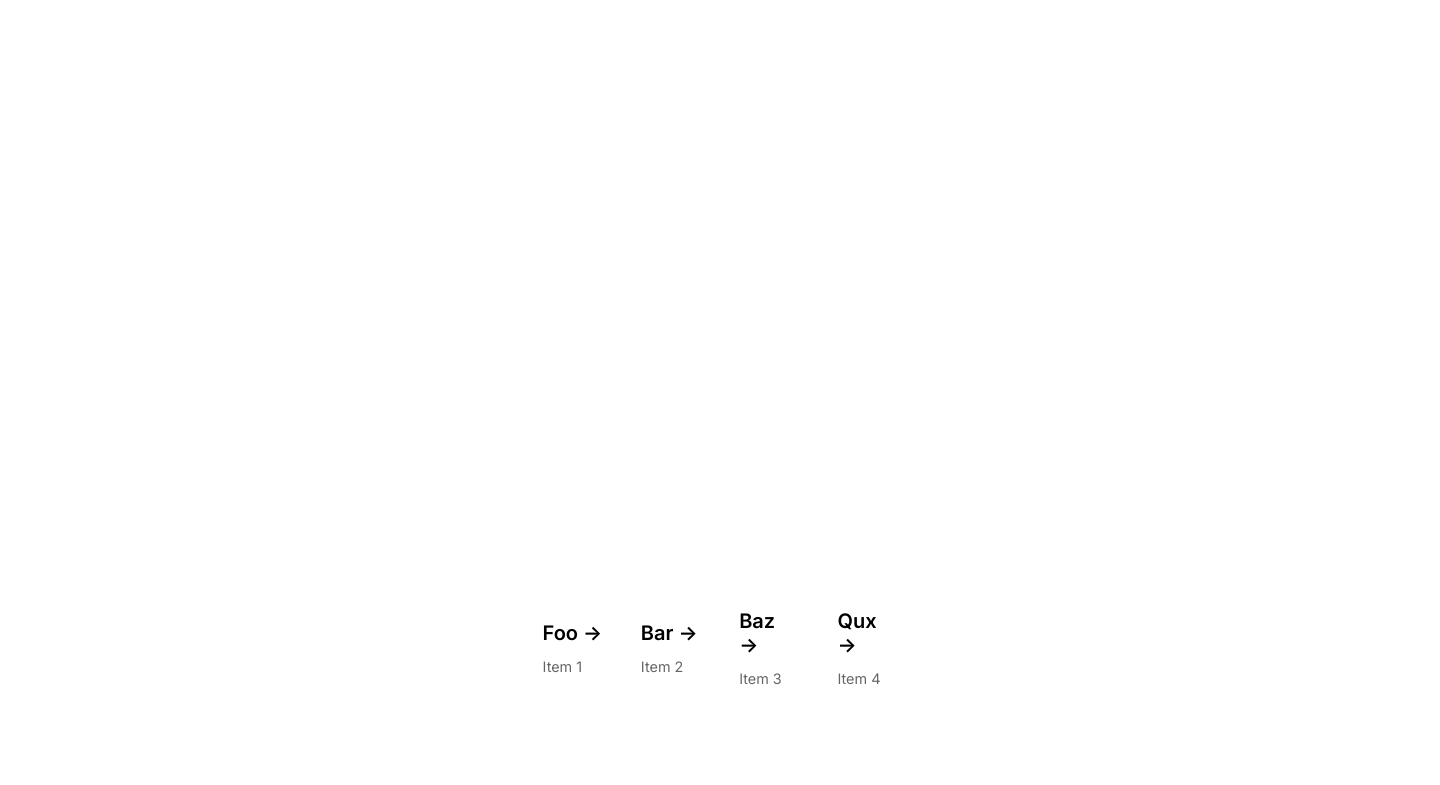
Scenario: Home Page › renders a basket with 1 item
(page scrolled)
Click the button with aria-label "Add to basket" at (573, 641), box [523,577,622,706]
(page scrolled)
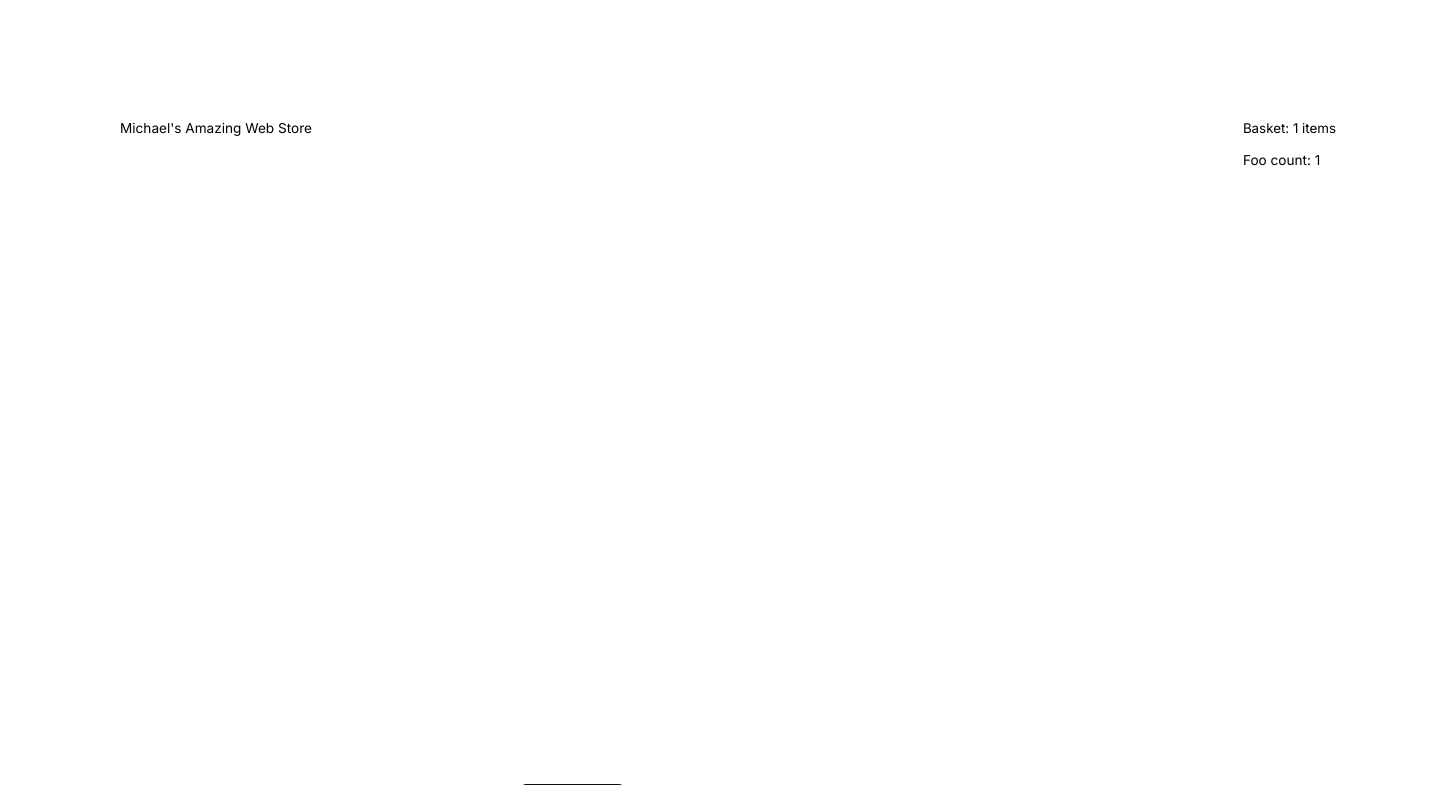
Now the button "Basket: 1 items" is shown, box [1243,104,1336,152]
